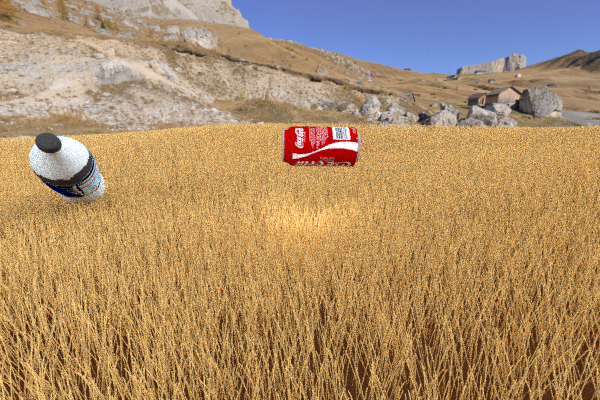bottle: (29, 132, 105, 205)
can: (282, 126, 360, 166), (299, 119, 329, 137)
